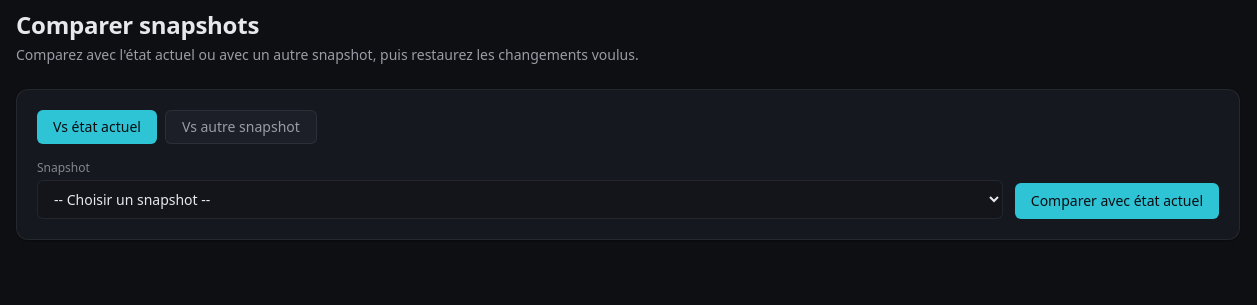
SnapshotComparePage › switches to dual selector in vs-snapshot mode
Click the button "Vs autre snapshot" at (241, 127), box [165,110,317,144]
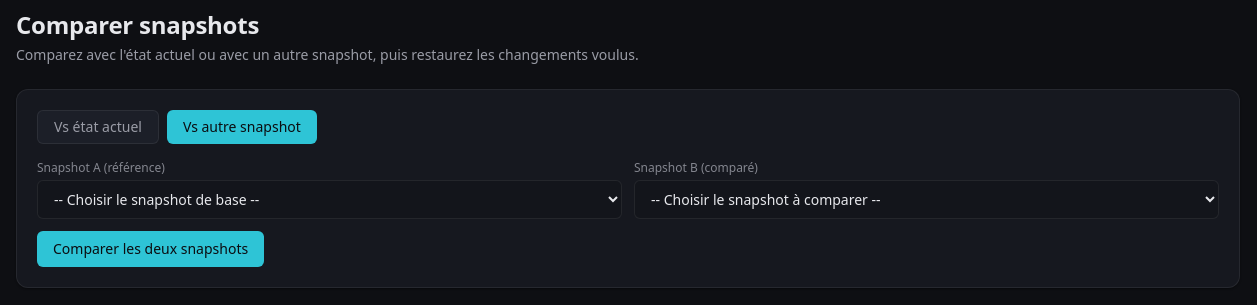
Expected: the dropdown labelled "Snapshot A (référence)" is shown, [37,180,622,219]
Expected: the dropdown labelled "Snapshot B (comparé)" is shown, [634,180,1219,219]
